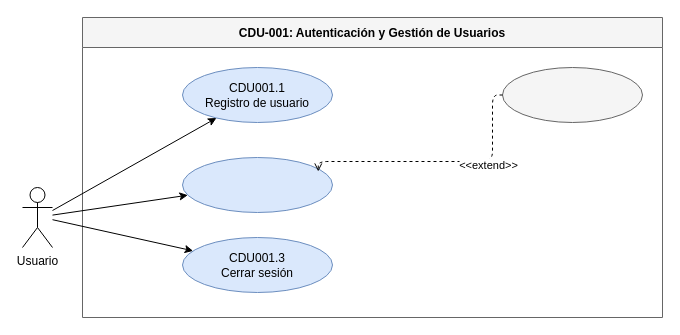
Image size: 680x335. Some labels were removed from this diagram. Each missing label, with the box of its shape:
CDU001.2 Inicio de sesión: (182, 156, 332, 212)
CDU001.8 Autenticación OAuth: (502, 66, 642, 122)
